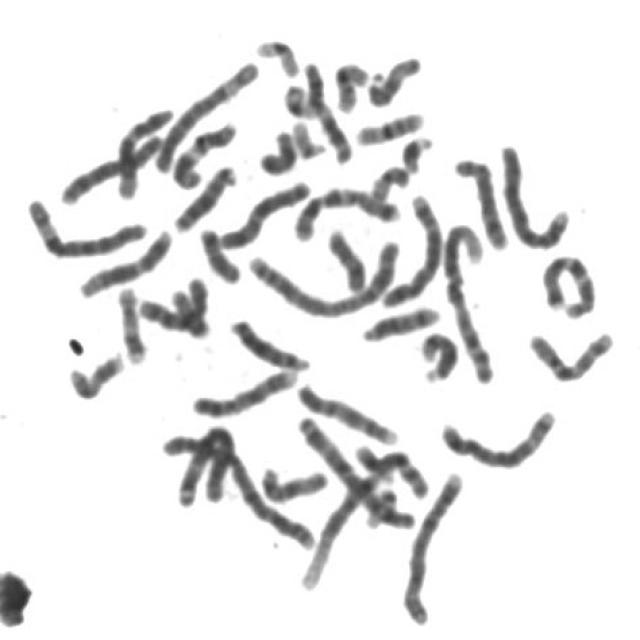A1: (293, 443, 424, 594), (436, 216, 500, 386)
A2: (154, 423, 320, 553), (243, 229, 406, 321)
A3: (293, 408, 421, 532), (174, 426, 244, 515)
B4: (396, 463, 468, 627), (494, 135, 575, 250)
B5: (434, 401, 562, 471), (377, 184, 447, 310)
C10: (521, 321, 620, 384), (131, 267, 213, 335)
C11: (297, 52, 357, 165), (165, 111, 240, 190)
C12: (73, 220, 175, 300), (110, 97, 178, 201)
C6: (150, 51, 263, 176), (19, 189, 151, 260)
C7: (288, 179, 407, 243), (536, 244, 601, 320)
C8: (54, 126, 167, 206), (447, 148, 512, 252)
C9: (290, 375, 401, 446), (186, 359, 301, 419)
D13: (168, 156, 242, 235), (224, 309, 313, 373)
D14: (355, 297, 444, 343), (415, 324, 463, 384)
D15: (362, 46, 425, 108), (255, 459, 332, 505)
E16: (350, 102, 428, 148), (328, 53, 373, 114)
E17: (62, 345, 128, 402), (112, 277, 151, 366)
E18: (321, 219, 370, 294), (252, 121, 300, 176)
F19: (250, 30, 304, 78), (280, 83, 322, 127)
F20: (165, 284, 213, 341), (365, 157, 413, 204)
G21: (350, 436, 397, 484), (396, 128, 438, 174)
G22: (362, 482, 409, 530), (286, 112, 331, 162)
X: (212, 172, 315, 252)
